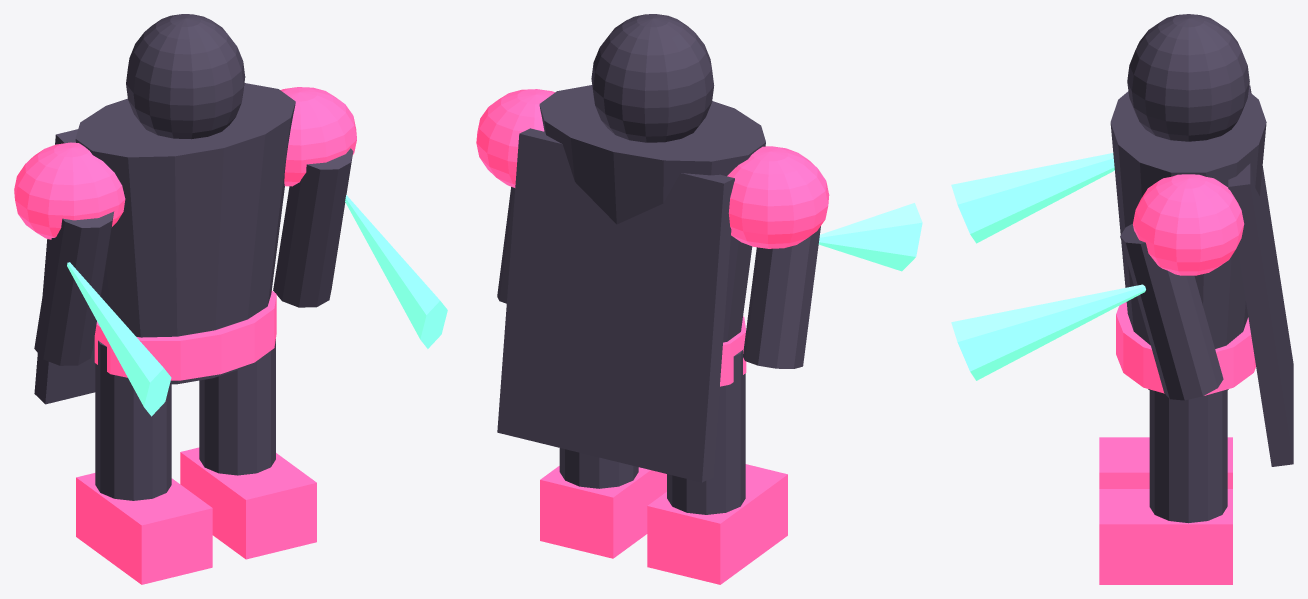
Rendered from hero_rogue.glb.
3 views of the same model, side by side, from view 1: azimuth 30°, elevation 25°; view 2: azimuth 150°, elevation 25°; view 3: azimuth 270°, elevation 25° (orthographic). The views are drawn at different scales.
Parts seen in each view (by area): view 1: Cone, Sphere.002, Cube, Cube.001, Cylinder, Cylinder.004, Cylinder.001, Cylinder.003, Sphere, Cylinder.002, Sphere.001, Cone.001 (+2 smaller); view 2: Cube.002, Cone, Sphere.002, Cube, Sphere, Cube.001, Cylinder.003, Cylinder, Cone.001, Sphere.001, Cylinder.001, Cylinder.002 (+1 smaller); view 3: Cone, Sphere.002, Cube.001, Cube.002, Cylinder.001, Cylinder.004, Sphere.001, Cone.002, Cone.001, Cylinder.002, Cube.
Part boxes in pixels (bbox=[...]): Cone: bbox=[75, 83, 295, 384]; Sphere.002: bbox=[126, 14, 245, 139]; Cube: bbox=[76, 473, 212, 584]; Cube.001: bbox=[180, 447, 316, 559]; Cylinder: bbox=[95, 340, 171, 500]; Cylinder.004: bbox=[273, 148, 353, 307]; Cylinder.001: bbox=[199, 339, 275, 475]; Cylinder.003: bbox=[34, 211, 113, 365]; Sphere: bbox=[14, 142, 125, 239]; Cylinder.002: bbox=[94, 290, 276, 380]; Sphere.001: bbox=[280, 87, 356, 186]; Cone.001: bbox=[67, 262, 171, 416]; Cube.002: bbox=[497, 128, 734, 482]; Cone: bbox=[539, 85, 765, 342]; Sphere.002: bbox=[591, 14, 714, 142]; Cube: bbox=[647, 464, 787, 584]; Sphere: bbox=[727, 146, 829, 248]; Cube.001: bbox=[540, 466, 666, 558]; Cylinder.003: bbox=[743, 226, 820, 368]; Cylinder: bbox=[667, 350, 745, 514]; Cone.001: bbox=[818, 203, 922, 271]; Sphere.001: bbox=[476, 89, 554, 187]; Cylinder.001: bbox=[559, 448, 638, 488]; Cylinder.002: bbox=[720, 316, 746, 386]; Cone: bbox=[1110, 91, 1266, 389]; Sphere.002: bbox=[1127, 14, 1249, 141]; Cube.001: bbox=[1099, 489, 1232, 584]; Cube.002: bbox=[1228, 85, 1293, 466]; Cylinder.001: bbox=[1149, 389, 1227, 523]; Cylinder.004: bbox=[1120, 223, 1223, 400]; Sphere.001: bbox=[1133, 174, 1244, 275]; Cone.002: bbox=[951, 284, 1145, 380]; Cone.001: bbox=[951, 153, 1114, 243]; Cylinder.002: bbox=[1116, 302, 1255, 395]; Cube: bbox=[1099, 437, 1232, 488].
Bounding box in the file's own units: 1.33 × 1.99 × 1.18.
